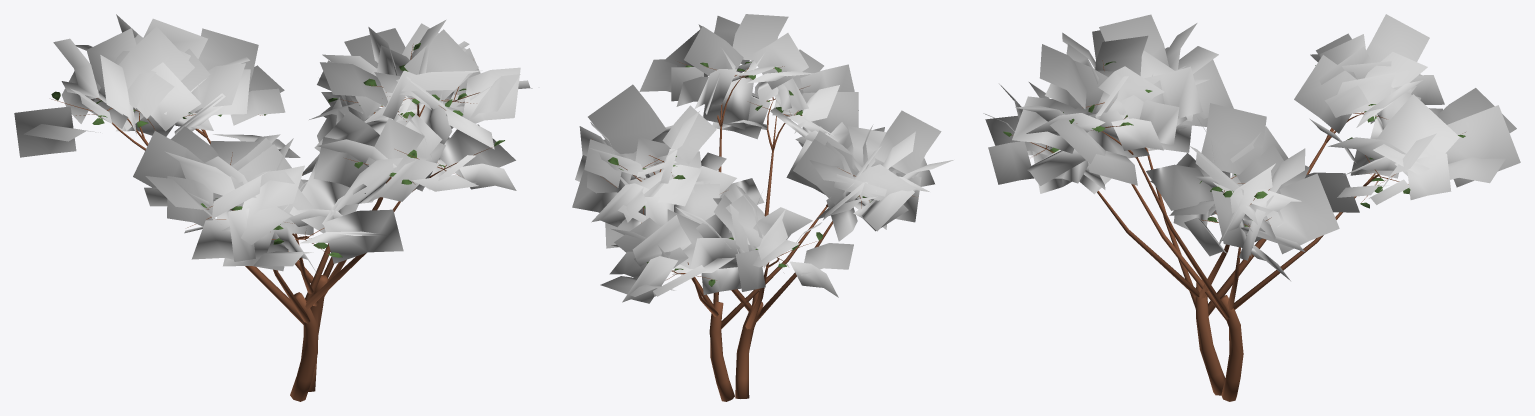
The model's file is V7_Arbousier_0_Niveau1.fbx.
3 renders of one model, left to right at view 1: azimuth 30°, elevation 25°; view 2: azimuth 150°, elevation 25°; view 3: azimuth 270°, elevation 25°, orthographic. The views are drawn at different scales.
Visible parts, largest first — view 1: V7_Arbousier_0_Detail1; view 2: V7_Arbousier_0_Detail1; view 3: V7_Arbousier_0_Detail1.
Boxes of the visible parts, x1,y1,x2,y2 form: V7_Arbousier_0_Detail1: (14, 14, 532, 401); V7_Arbousier_0_Detail1: (572, 14, 953, 401); V7_Arbousier_0_Detail1: (983, 14, 1520, 401).
Bounding box in the file's own units: 347 × 329 × 430.
